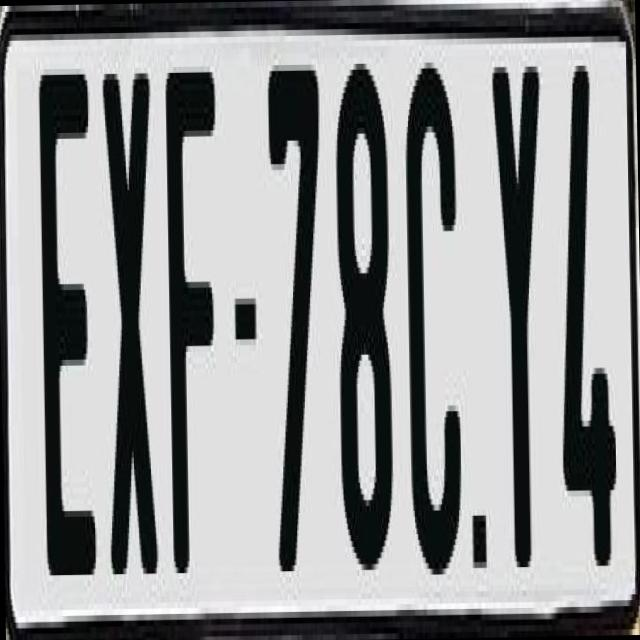4: (554, 47, 618, 578)
7: (267, 58, 326, 571)
8: (334, 57, 403, 576)
C: (402, 56, 467, 574)
E: (36, 56, 98, 587)
F: (162, 65, 228, 567)
X: (98, 66, 157, 604)
Y: (489, 54, 545, 585)
